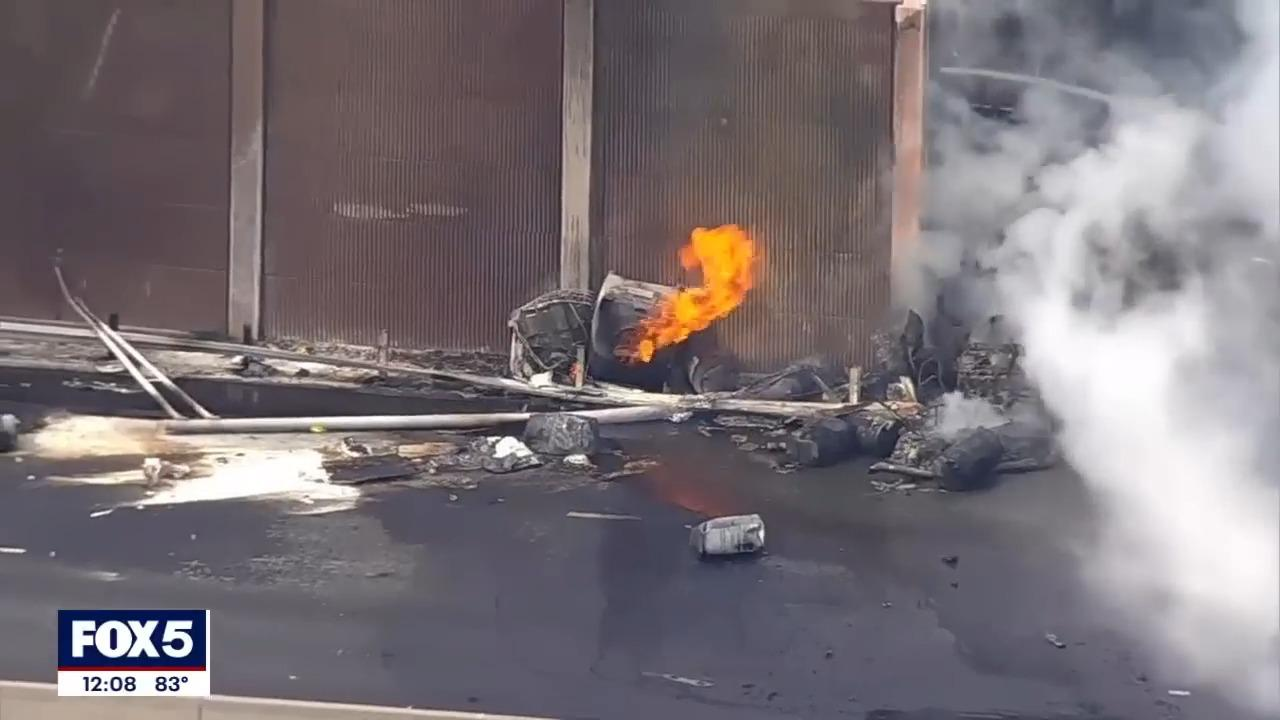fire: (627, 219, 763, 369)
